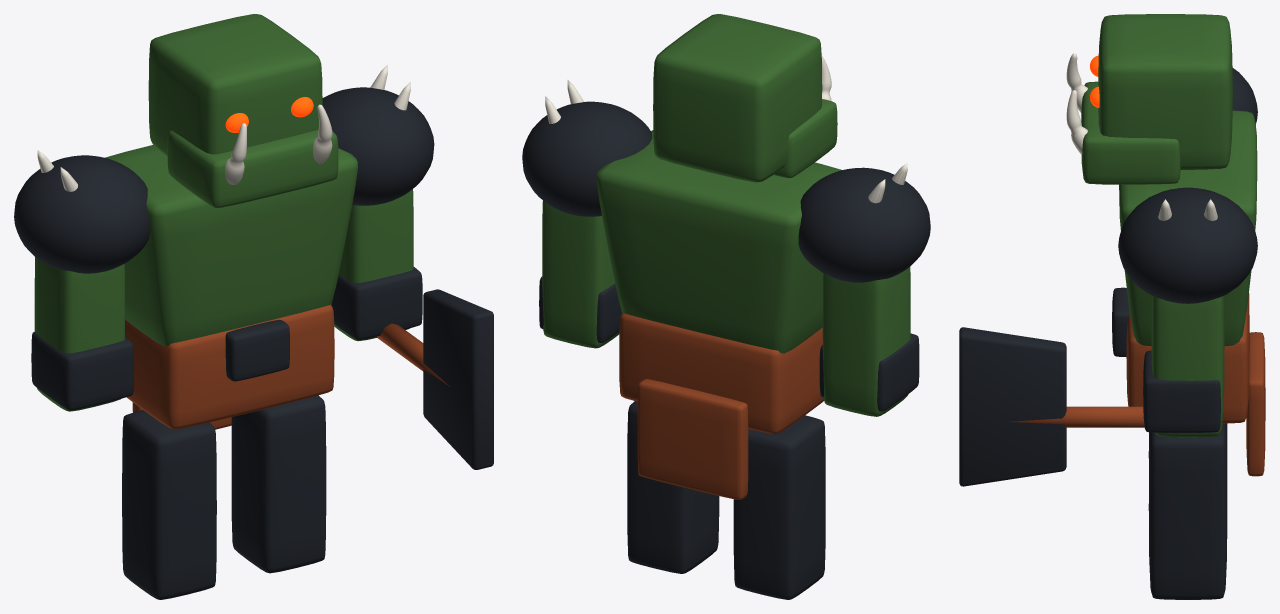
The model's file is orc.glb.
The picture shows the model from 3 angles, left to right: view 1: azimuth 30°, elevation 25°; view 2: azimuth 150°, elevation 25°; view 3: azimuth 270°, elevation 25°; orthographic projection. The views are drawn at different scales.
Visible parts, largest first — view 1: Body, Head, LeftLeg, RightLeg, LeftArm, Weapon, RightArm; view 2: Body, Head, LeftLeg, LeftArm, Tail, RightArm, RightLeg; view 3: Body, Head, Weapon, RightLeg, RightArm, Tail.
Boxes of the visible parts, left/top/right/bottom form: Body: left=14, top=65, right=434, bottom=429; Head: left=148, top=14, right=338, bottom=207; LeftLeg: left=122, top=410, right=216, bottom=599; RightLeg: left=231, top=395, right=326, bottom=573; LeftArm: left=31, top=257, right=133, bottom=411; Weapon: left=377, top=289, right=493, bottom=469; RightArm: left=331, top=189, right=422, bottom=341; Body: left=522, top=80, right=930, bottom=433; Head: left=653, top=14, right=837, bottom=182; LeftLeg: left=733, top=415, right=825, bottom=599; LeftArm: left=819, top=267, right=919, bottom=416; Tail: left=637, top=379, right=748, bottom=499; RightArm: left=539, top=200, right=622, bottom=348; RightLeg: left=627, top=401, right=719, bottom=573; Body: left=1112, top=68, right=1257, bottom=423; Head: left=1066, top=14, right=1232, bottom=184; Weapon: left=959, top=327, right=1144, bottom=486; RightLeg: left=1148, top=423, right=1227, bottom=599; RightArm: left=1143, top=296, right=1224, bottom=437; Tail: left=1246, top=332, right=1265, bottom=476.
Bounding box in the file's own units: 1.61 × 2.06 × 1.08.
